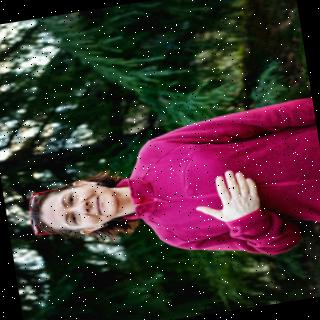Please: (187, 163, 266, 231)
